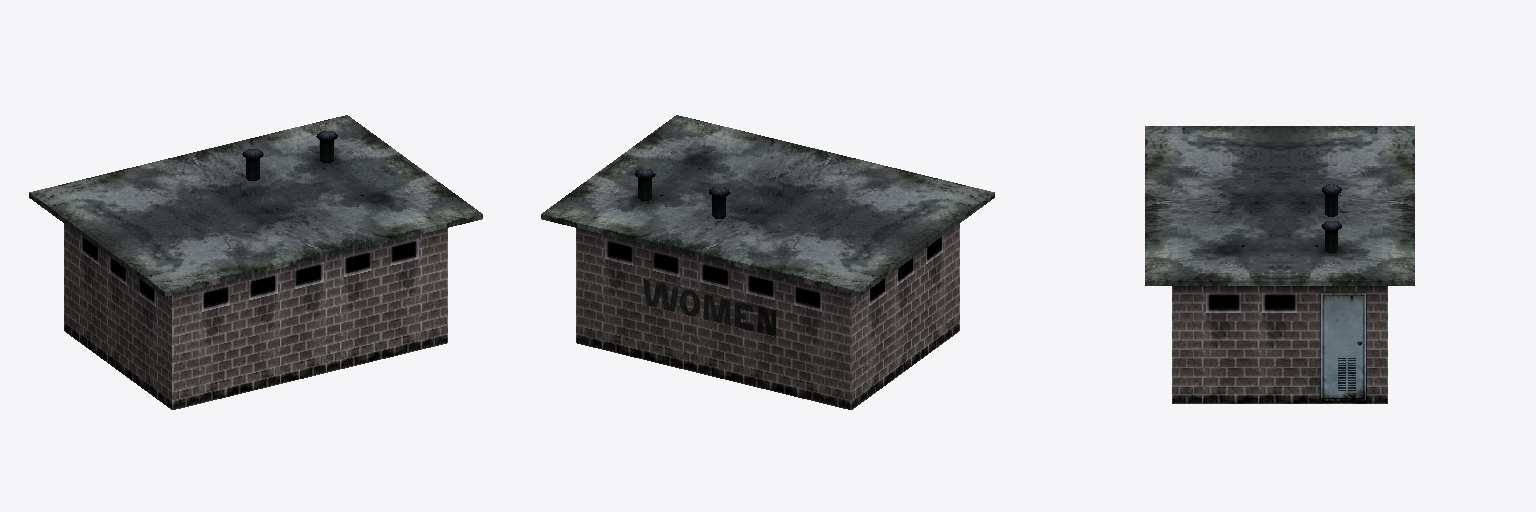
3 views of the same model, side by side, from view 1: azimuth 30°, elevation 25°; view 2: azimuth 150°, elevation 25°; view 3: azimuth 270°, elevation 25° (orthographic).
Parts seen in each view (by area): view 1: City_building_024.001; view 2: City_building_024.001; view 3: City_building_024.001.
Part boxes in pixels (bbox=[...]): City_building_024.001: bbox=[29, 115, 482, 409]; City_building_024.001: bbox=[541, 115, 994, 409]; City_building_024.001: bbox=[1145, 126, 1414, 403].
Bounding box in the file's own units: 1.41 × 0.6888 × 1.04.
Materials: 1 (1 with a texture image).